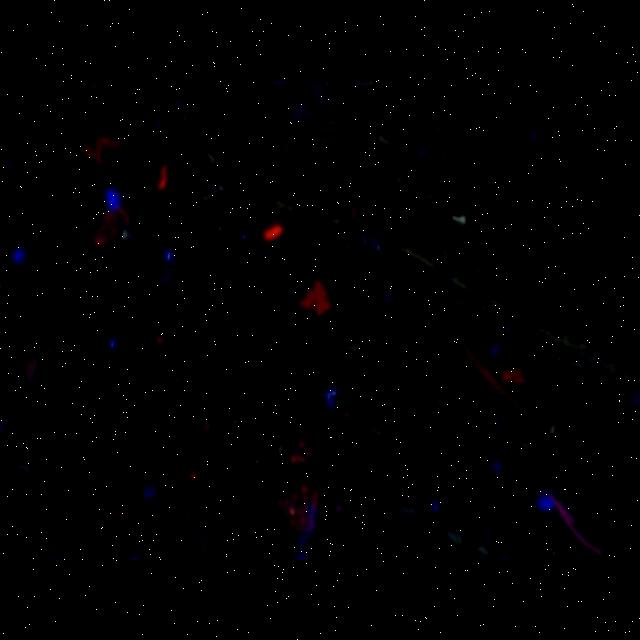microbeads: (453, 212, 469, 226)
